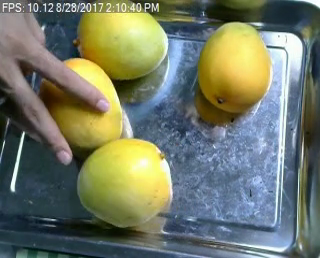Mango: (36, 59, 122, 152), (76, 140, 167, 227), (74, 1, 168, 79), (199, 23, 271, 111)
